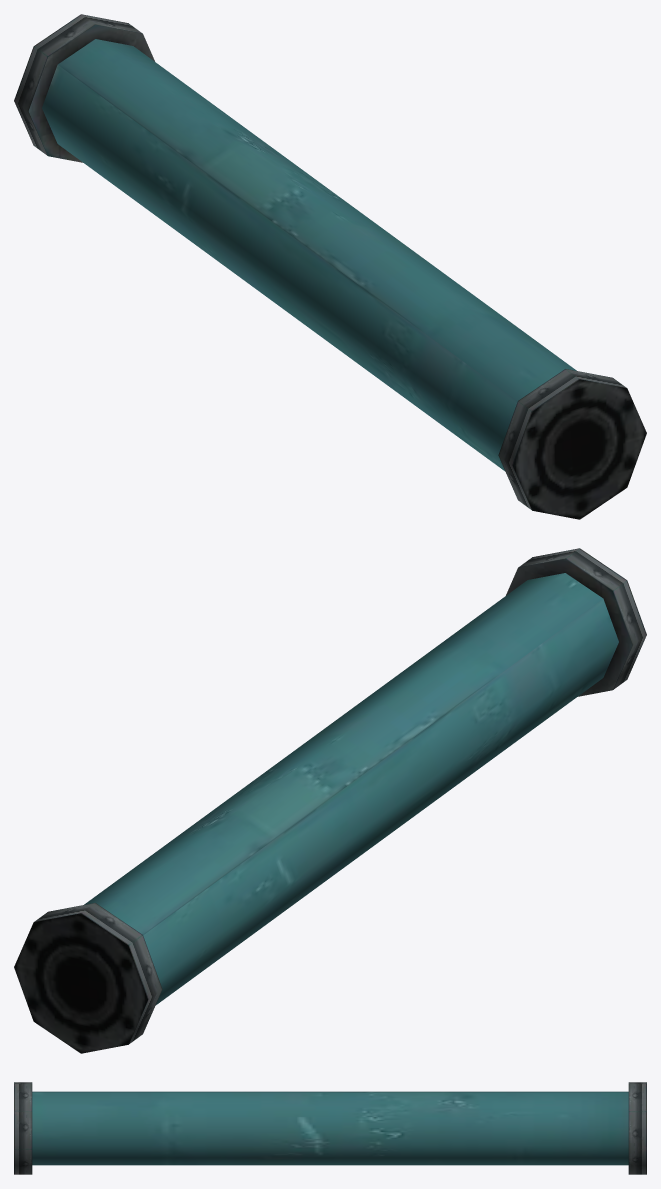
3 renders of one model, top to bottom at view 1: azimuth 30°, elevation 25°; view 2: azimuth 150°, elevation 25°; view 3: azimuth 270°, elevation 25°, orthographic. The views are drawn at different scales.
Parts seen in each view (by area): view 1: body0_model0_lod0_mesh0; view 2: body0_model0_lod0_mesh0; view 3: body0_model0_lod0_mesh0.
Boxes of the visible parts, x1,y1,x2,y2 form: body0_model0_lod0_mesh0: [14, 14, 646, 519]; body0_model0_lod0_mesh0: [14, 548, 646, 1053]; body0_model0_lod0_mesh0: [14, 1082, 646, 1174].
Bounding box in the file's own units: 9.95 × 9.95 × 64.08.
Materials: 1 (1 with a texture image).
